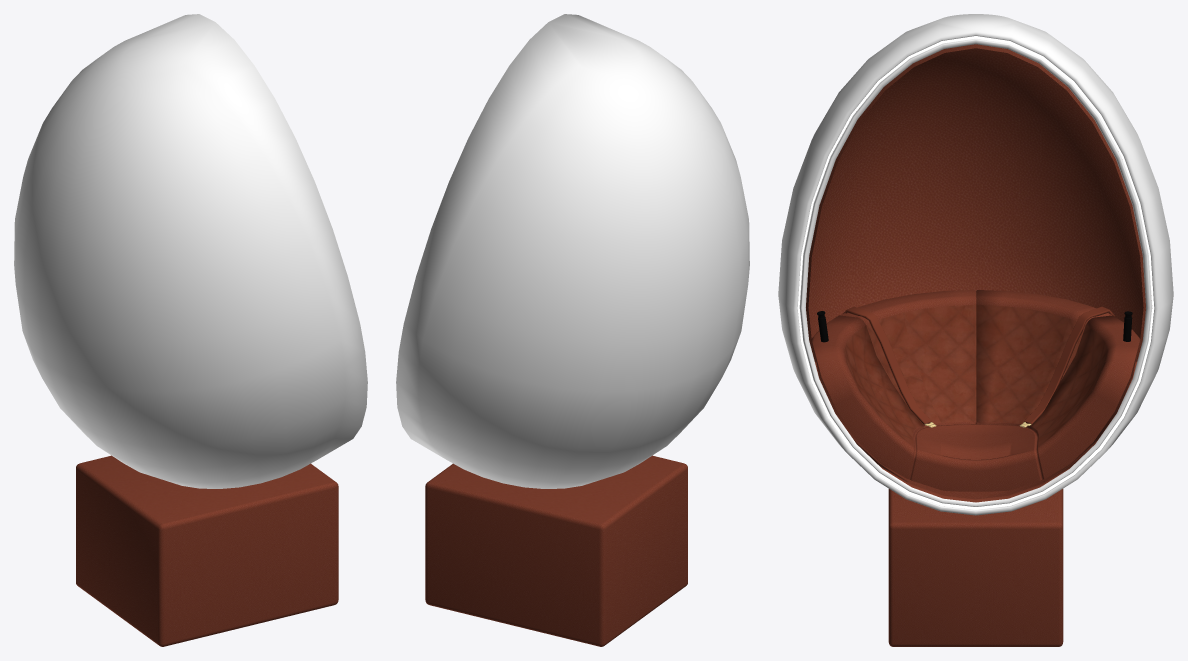
File: 9d_chair.glb
3 renders of one model, left to right at view 1: azimuth 30°, elevation 25°; view 2: azimuth 150°, elevation 25°; view 3: azimuth 270°, elevation 25°, orthographic.
Visible parts, largest first — view 1: Sphere, Cube; view 2: Sphere, Cube; view 3: Sphere.002, Sphere.001, Sphere, Cube, END CLIPS, END CLIPS.001.
Part boxes in pixels (<box>): Sphere: <box>14,14,367,488</box>; Cube: <box>76,455,338,646</box>; Sphere: <box>396,14,749,488</box>; Cube: <box>425,455,687,646</box>; Sphere.002: <box>806,44,1145,499</box>; Sphere.001: <box>811,290,1140,491</box>; Sphere: <box>778,14,1173,515</box>; Cube: <box>888,489,1063,646</box>; END CLIPS: <box>843,306,936,427</box>; END CLIPS.001: <box>1019,306,1115,427</box>.
Bounding box in the file's own units: 1.6 × 3.22 × 2.
7 materials, 3 textured.
